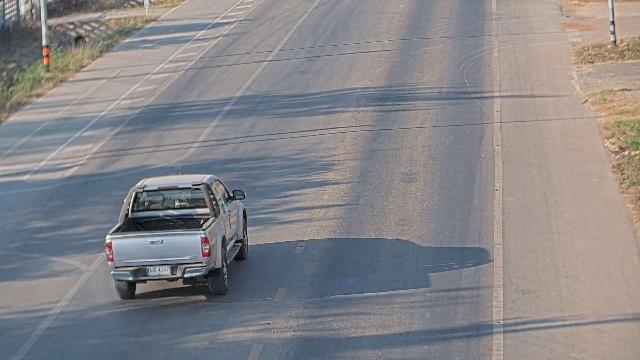pickup-truck: (104, 172, 249, 300)
